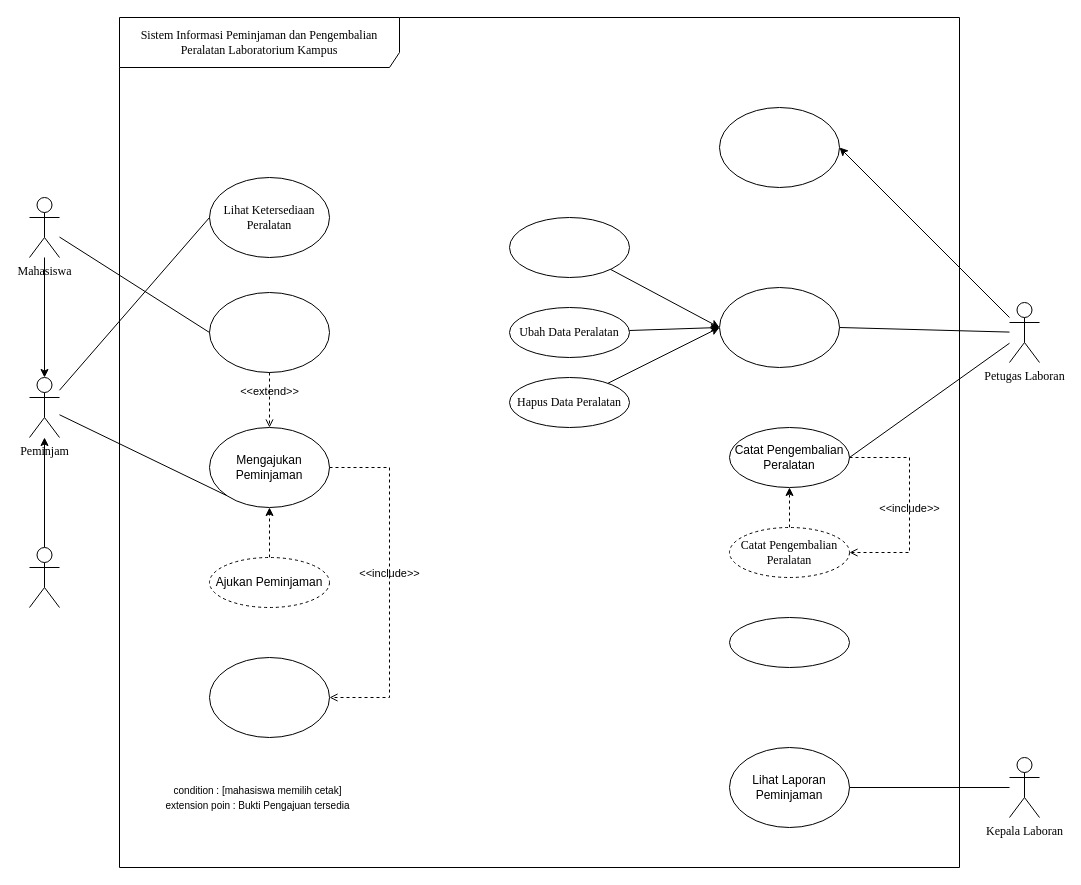
Some shapes in this 1081 by 885 pixel diagram are drawn without their labels. The centre of each missing label's shape, as x and y in pixels:
"Cetak Bukti Pengajuan" goes at [269,332].
"Dosen" goes at [44,577].
"Kelola Data Peralatan" goes at [779,327].
"Periksa Ketersediaan" goes at [269,697].
"Periksa Kondisi Peralatan" goes at [789,642].
"Proses Keputusan Peminjaman" goes at [779,147].
"Tambah Data Peralatan" goes at [569,247].
